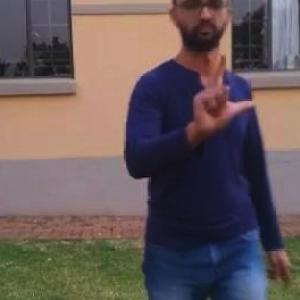land_hand: (185, 43, 259, 138)
